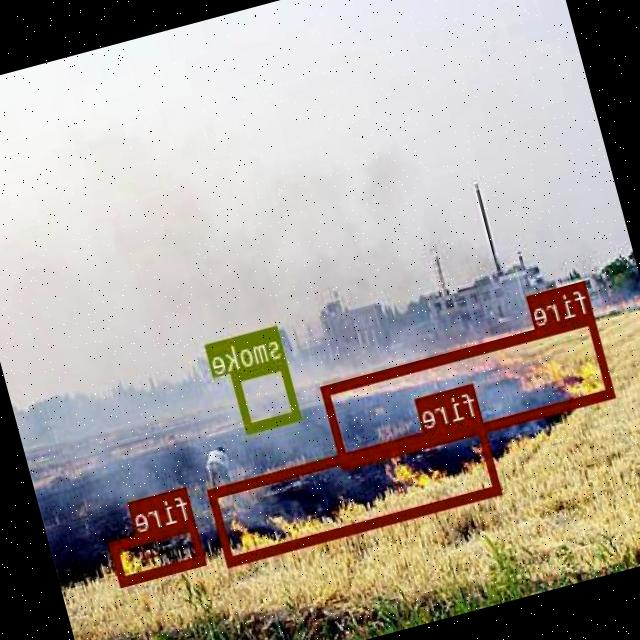fire: (322, 312, 616, 466), (208, 414, 502, 564), (108, 517, 206, 584)
smoke: (232, 358, 302, 432)
